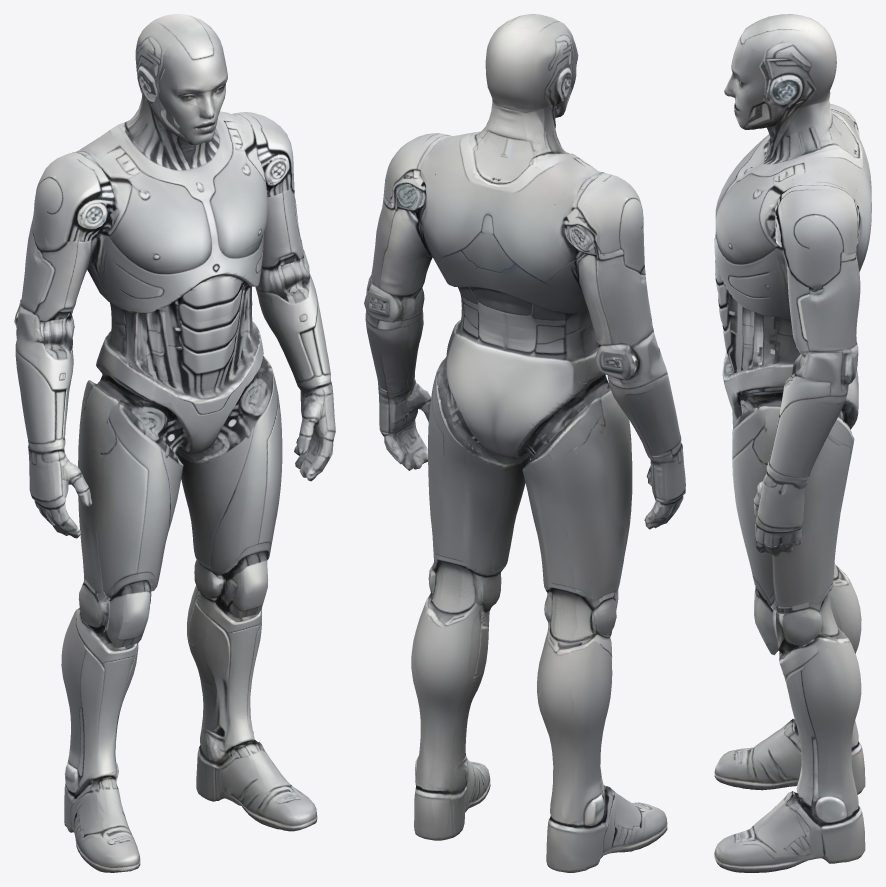
File: 3d-humanoid-robot.glb
3 views of the same model, side by side, from view 1: azimuth 30°, elevation 25°; view 2: azimuth 150°, elevation 25°; view 3: azimuth 270°, elevation 25° (orthographic).
Parts seen in each view (by area): view 1: Mesh; view 2: Mesh; view 3: Mesh.
Part boxes in pixels (bbox=[...]): Mesh: bbox=[14, 14, 335, 872]; Mesh: bbox=[364, 14, 685, 872]; Mesh: bbox=[714, 14, 871, 872].
Size of the model in its own units: 0.7332 by 1.91 by 0.3396.
1 material, 1 textured.
